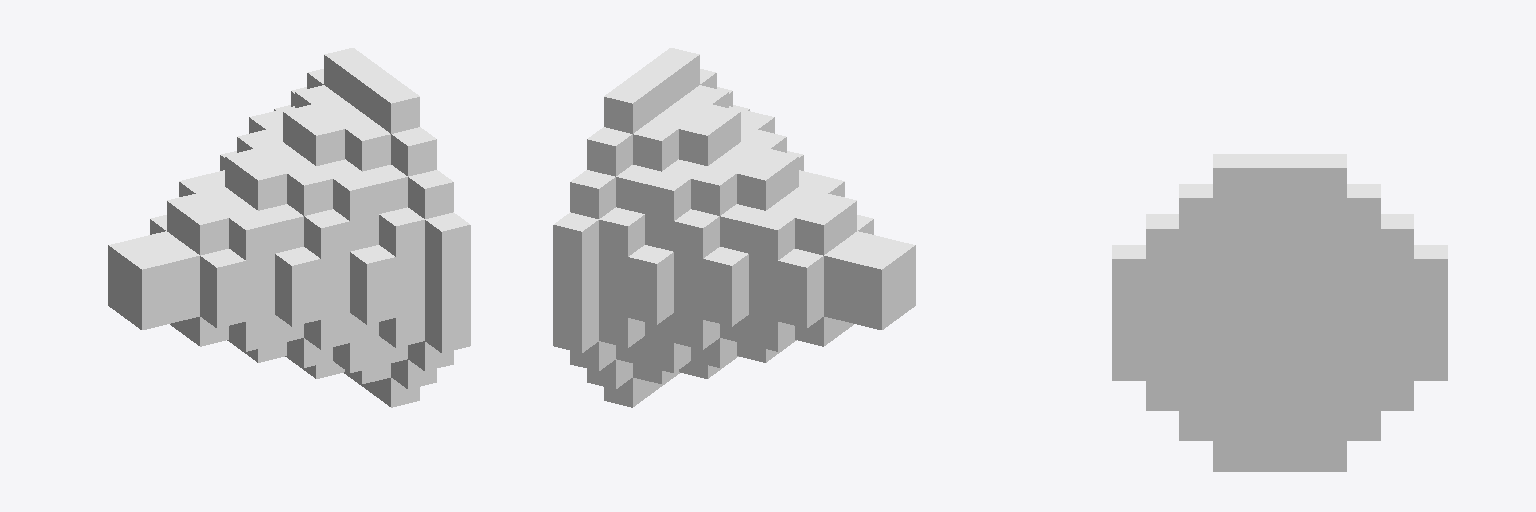
File: spike_left.obj
3 renders of one model, left to right at view 1: azimuth 30°, elevation 25°; view 2: azimuth 150°, elevation 25°; view 3: azimuth 270°, elevation 25°, orthographic.
Parts seen in each view (by area): view 1: object 1; view 2: object 1; view 3: object 1.
Boxes of the visible parts, box(x1,y1,x2,y2) form: object 1: box(108, 48, 470, 407); object 1: box(553, 48, 915, 407); object 1: box(1112, 154, 1447, 471).
Size of the model in its own units: 0.9 by 1 by 1.